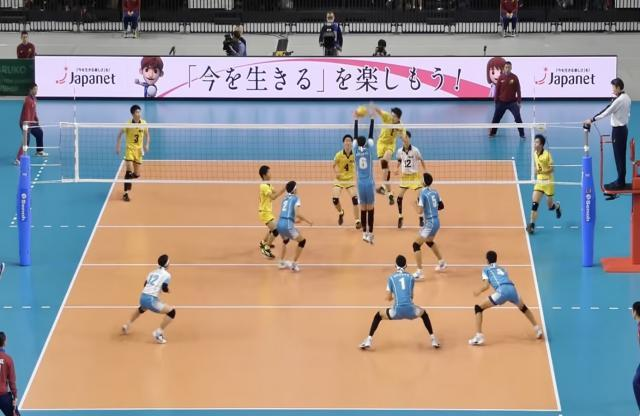block: (348, 107, 378, 248)
